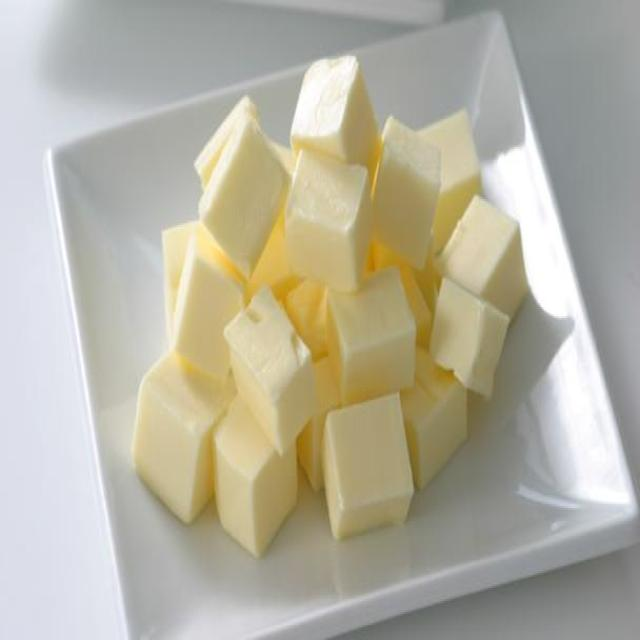Butter: (128, 348, 228, 515), (212, 394, 296, 556), (321, 270, 418, 407), (319, 398, 414, 536), (201, 117, 286, 270), (232, 296, 312, 452), (283, 140, 364, 292), (442, 190, 526, 335), (367, 114, 441, 274), (295, 58, 381, 190), (395, 346, 466, 487), (171, 236, 241, 374), (432, 281, 502, 406)
